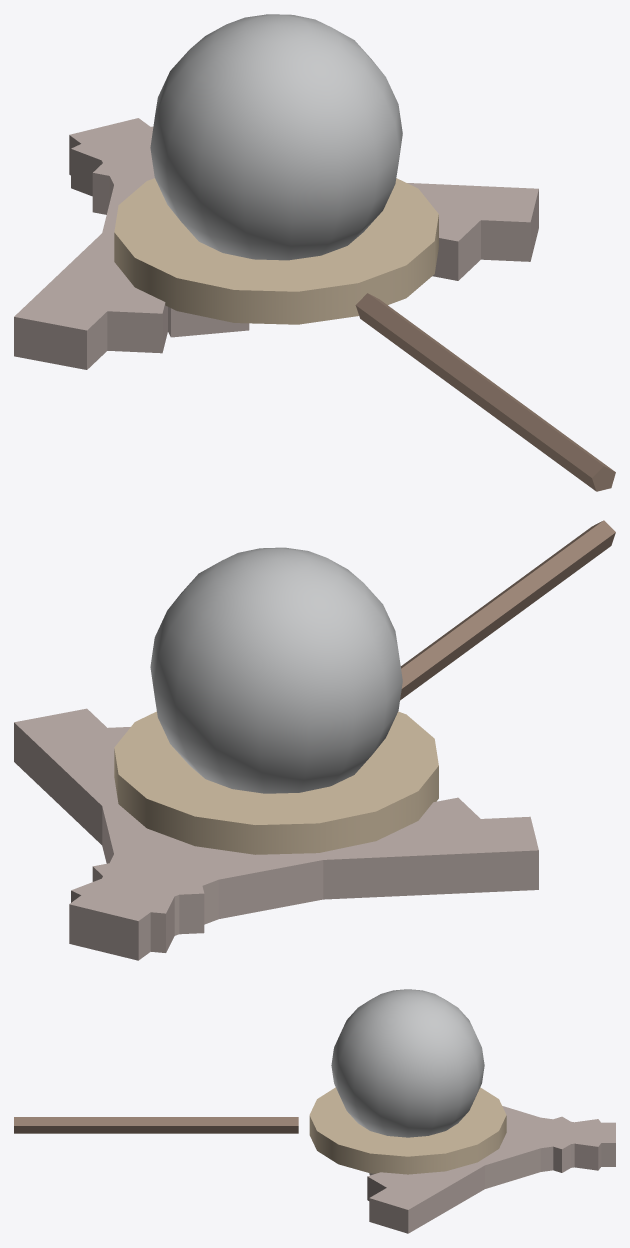
File: tl_pearl.gltf
3 renders of one model, top to bottom at view 1: azimuth 30°, elevation 25°; view 2: azimuth 150°, elevation 25°; view 3: azimuth 270°, elevation 25°, orthographic. The views are drawn at different scales.
Parts seen in each view (by area): view 1: Body, Pearl; view 2: Body, Pearl; view 3: Body, Pearl.
Boxes of the visible parts, <box> form: Body: <box>14,118,615,491</box>; Pearl: <box>150,14,402,260</box>; Body: <box>14,520,615,960</box>; Pearl: <box>150,547,402,793</box>; Body: <box>14,1087,615,1233</box>; Pearl: <box>331,989,484,1137</box>.
Size of the model in its own units: 0.1666 by 0.081 by 0.275.
